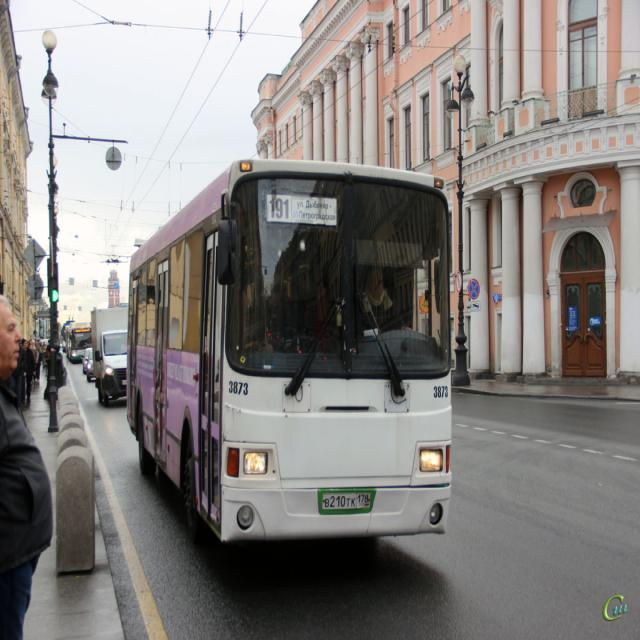bus: (124, 156, 465, 556), (64, 320, 94, 362)
